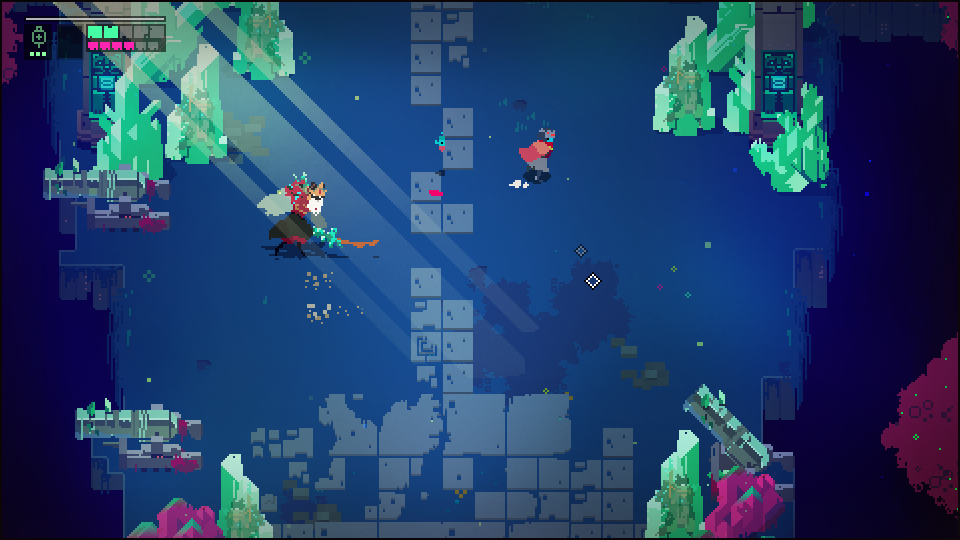hanged_man: (255, 169, 349, 271)
player: (508, 129, 557, 183)
